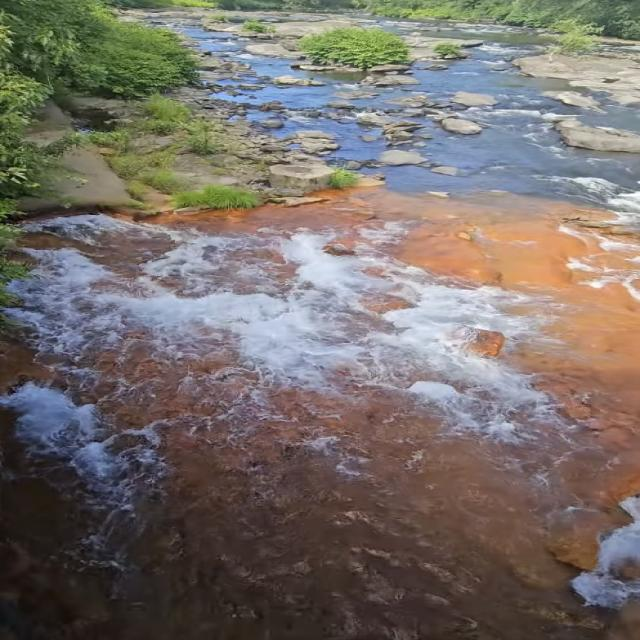yellow_boy: (0, 189, 639, 639)
